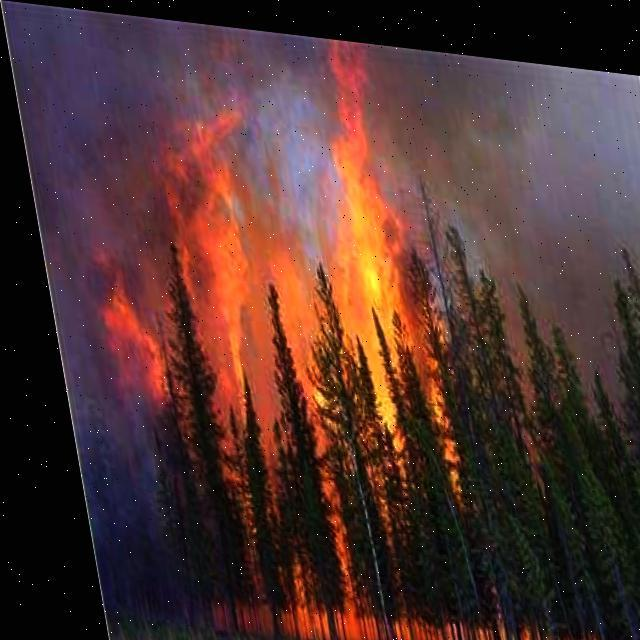Fire: (67, 84, 605, 639)
